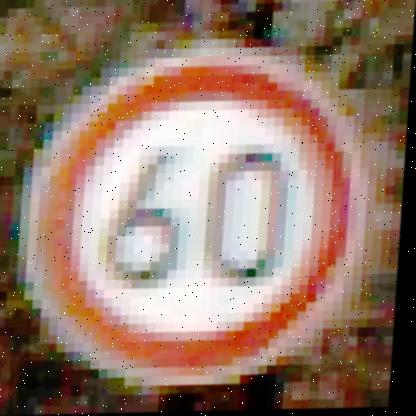Speed Limit -60-: (23, 44, 379, 391)
